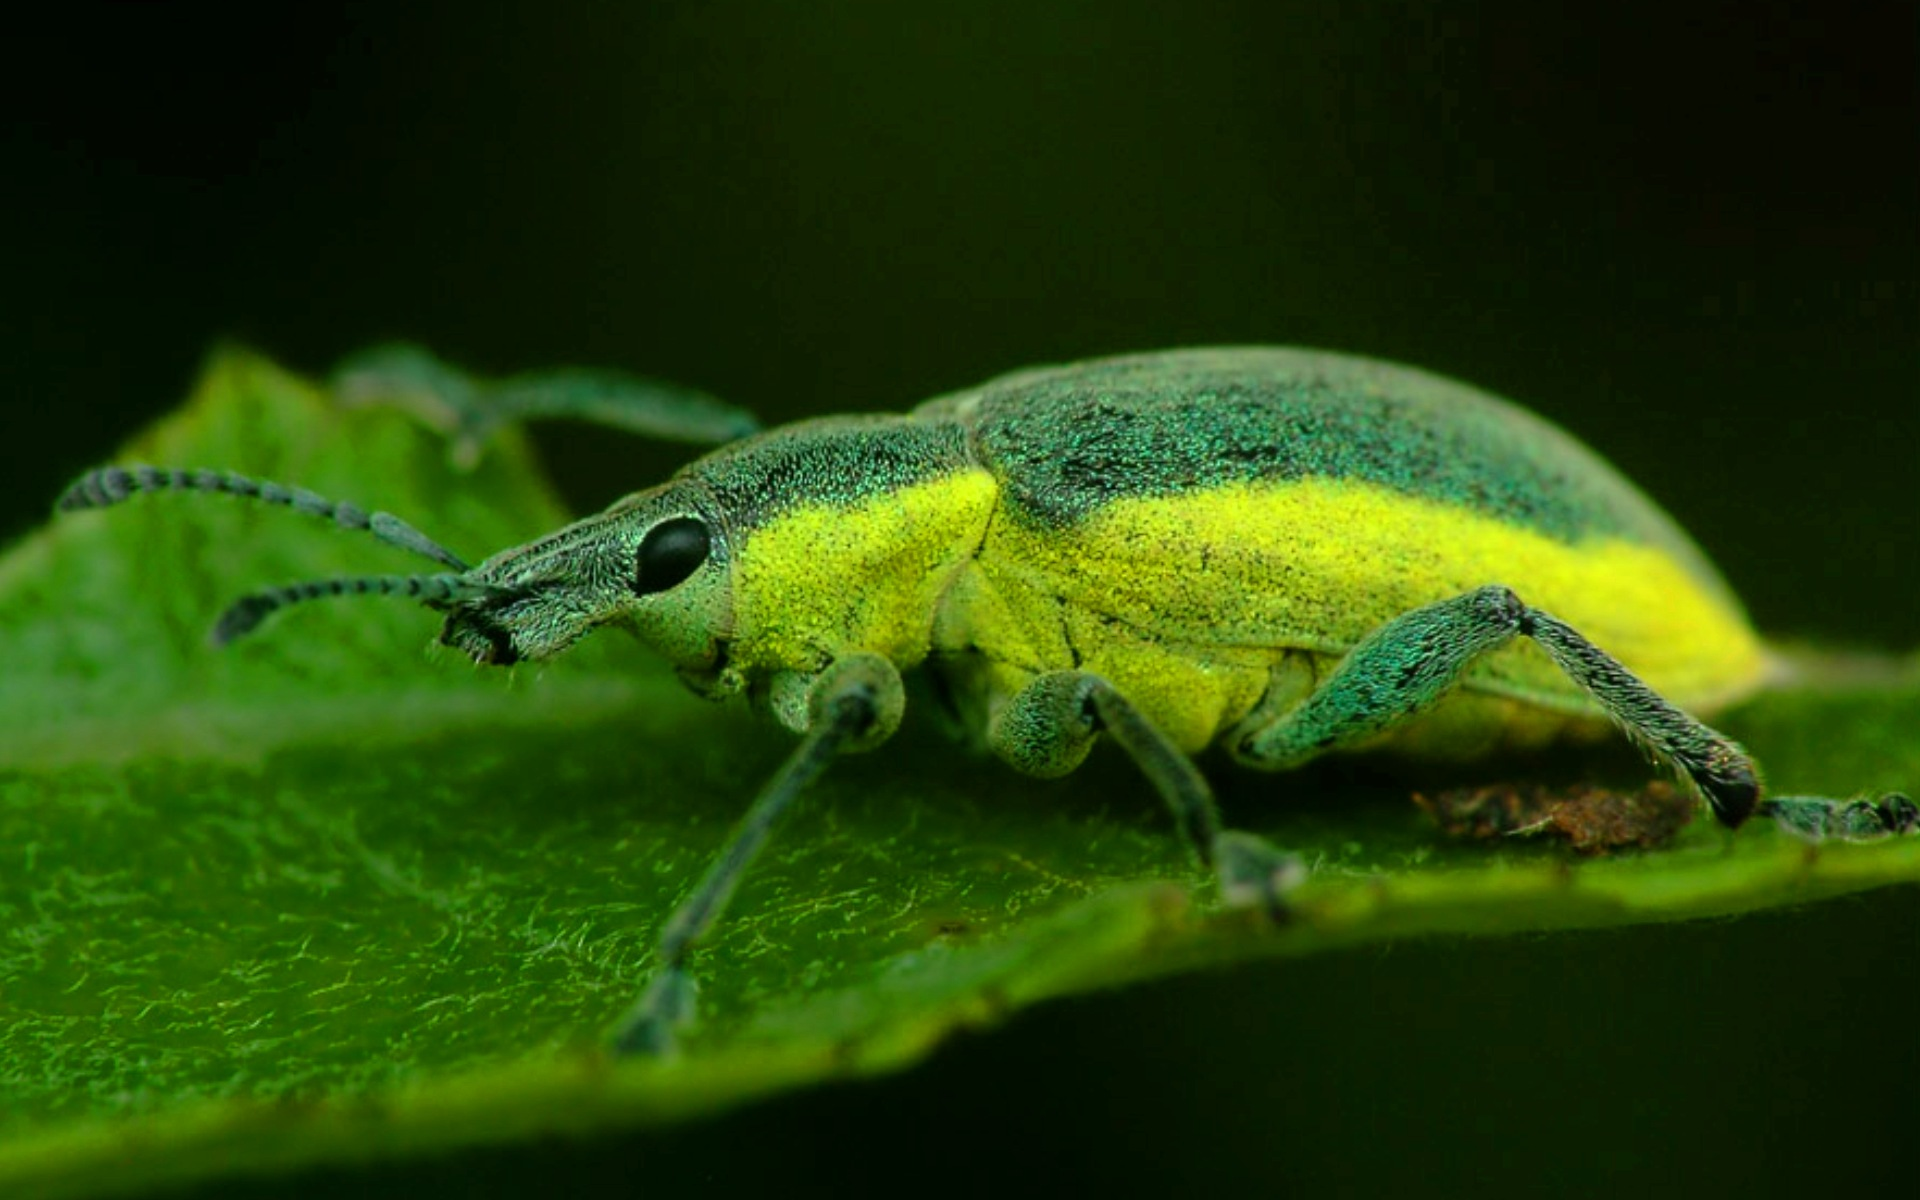dolgonosik: (68, 332, 1883, 1000)
